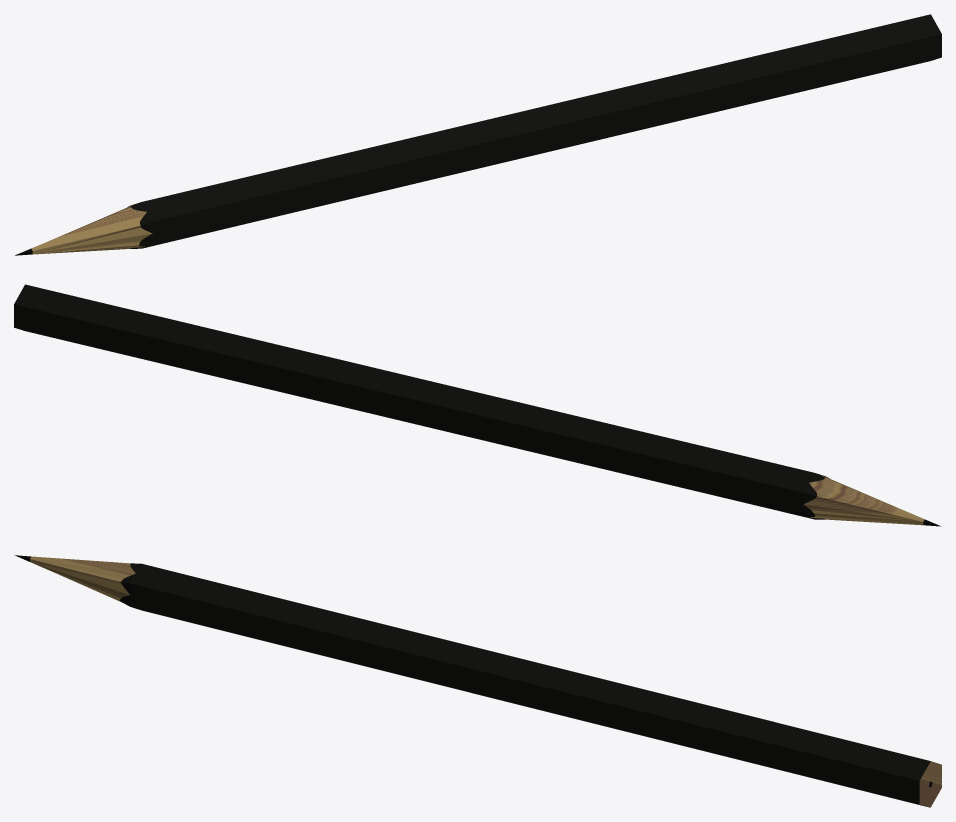
Rendered from enpitu1.fbx.
3 renders of one model, top to bottom at view 1: azimuth 30°, elevation 25°; view 2: azimuth 150°, elevation 25°; view 3: azimuth 330°, elevation 25°, orthographic.
Parts seen in each view (by area): view 1: pCylinder1; view 2: pCylinder1; view 3: pCylinder1.
Boxes of the visible parts, x1,y1,x2,y2 form: pCylinder1: (15,14,941,255); pCylinder1: (14,284,941,526); pCylinder1: (14,555,941,807).
Bounding box in the file's own units: 19.55 × 1.05 × 0.8368.
